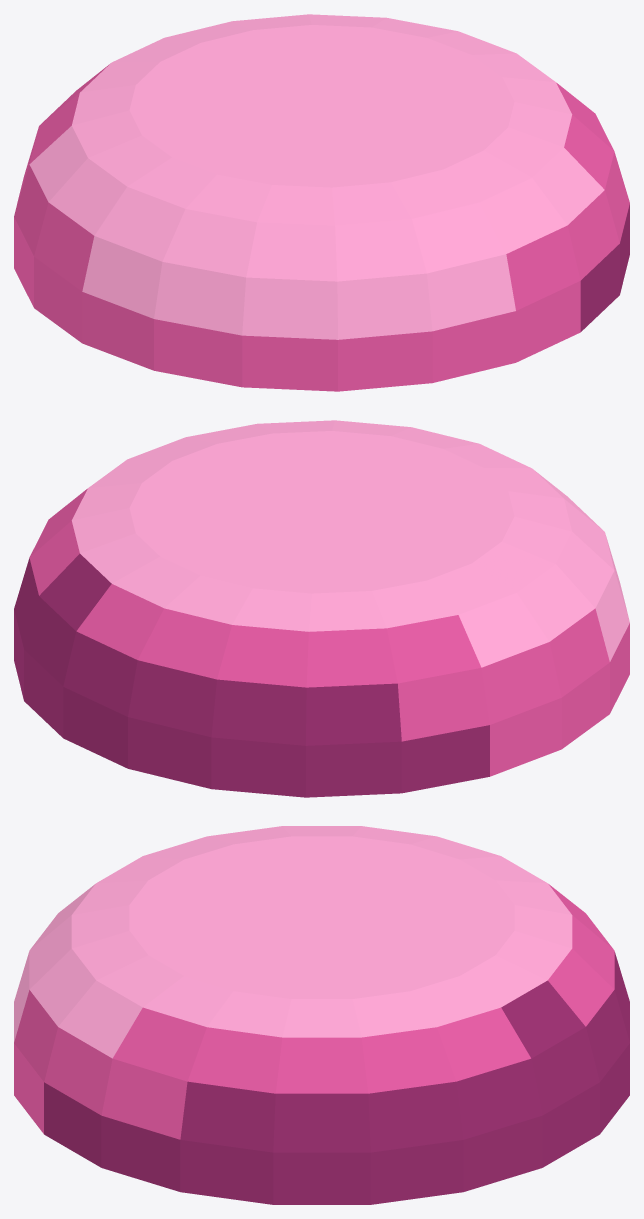
File: Button_ResetCap.gltf
3 renders of one model, top to bottom at view 1: azimuth 30°, elevation 25°; view 2: azimuth 150°, elevation 25°; view 3: azimuth 270°, elevation 25°, orthographic.
Parts seen in each view (by area): view 1: Button_ResetCap_baked; view 2: Button_ResetCap_baked; view 3: Button_ResetCap_baked.
Boxes of the visible parts, bbox=[...] form: Button_ResetCap_baked: bbox=[14, 14, 629, 391]; Button_ResetCap_baked: bbox=[14, 420, 629, 797]; Button_ResetCap_baked: bbox=[14, 826, 629, 1204].
Size of the model in its own units: 0.5334 by 0.15 by 0.5334.
